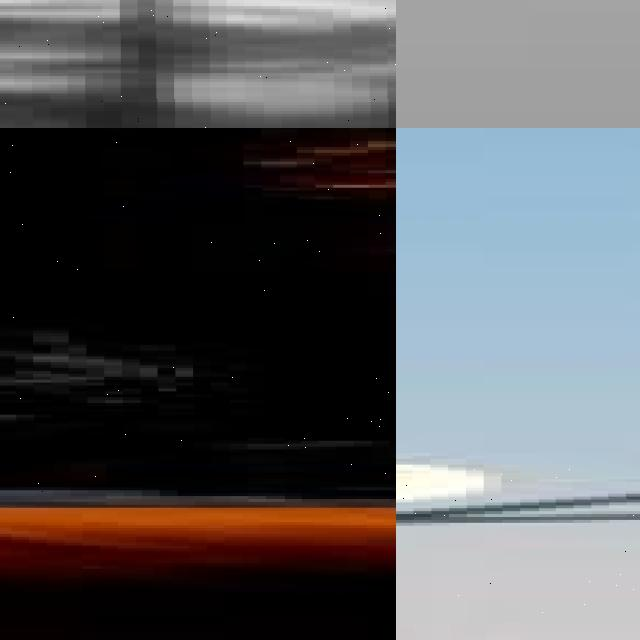street light: (0, 128, 396, 507), (0, 0, 396, 128), (396, 464, 640, 640)
